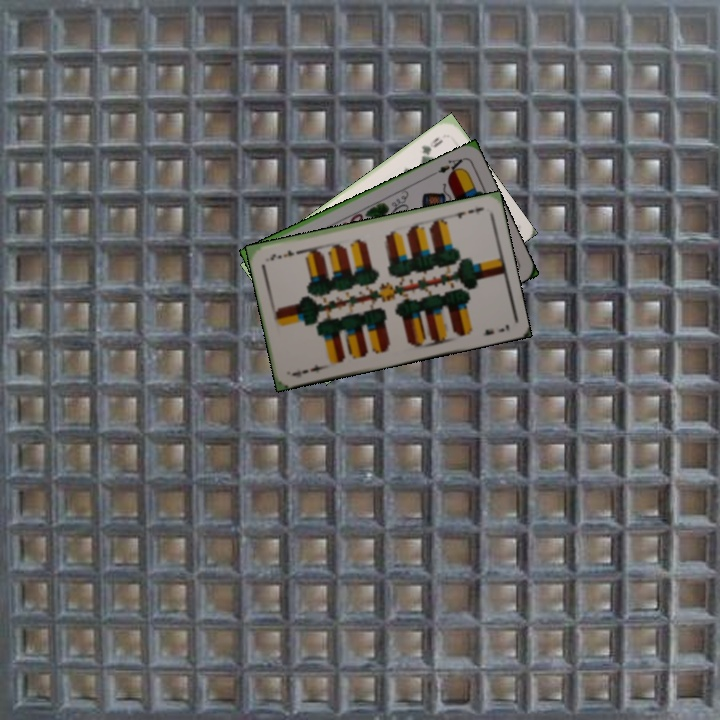E7: (288, 361, 329, 380), (447, 203, 487, 221)
EA: (434, 154, 466, 178)
G9: (416, 133, 446, 163)
